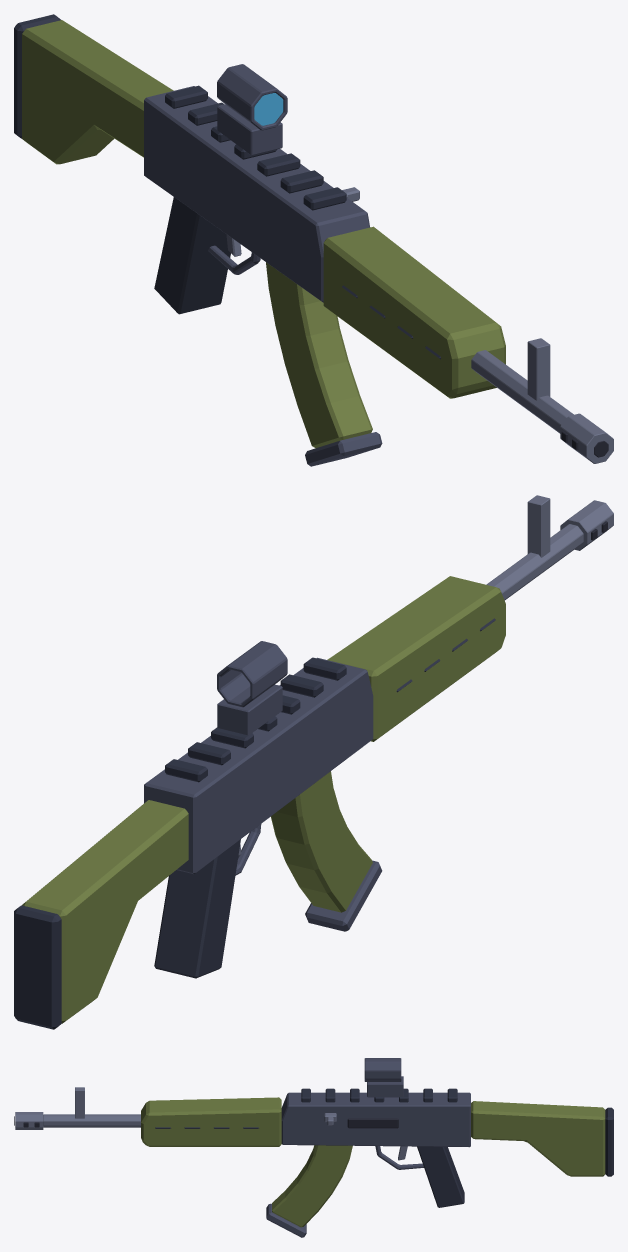
The model's file is myw_assaultrifle.glb.
The picture shows the model from 3 angles, top to bottom: view 1: azimuth 30°, elevation 25°; view 2: azimuth 150°, elevation 25°; view 3: azimuth 270°, elevation 25°; orthographic projection. The views are drawn at different scales.
Parts seen in each view (by area): view 1: Furniture, Body, Mag, Barrel, Sight; view 2: Furniture, Body, Mag, Sight, Barrel; view 3: Furniture, Body, Mag, Barrel, Sight.
Part boxes in pixels (box(x1,y1,x2,y2)): Furniture: box(14, 14, 505, 398); Body: box(144, 85, 370, 314); Mag: box(266, 262, 382, 466); Barrel: box(471, 338, 613, 463); Sight: box(217, 64, 287, 155); Furniture: box(14, 576, 505, 1029); Body: box(144, 657, 373, 978); Mag: box(270, 771, 382, 931); Sight: box(217, 641, 287, 735); Barrel: box(486, 495, 613, 600); Furniture: box(141, 1097, 613, 1176); Body: box(281, 1088, 470, 1207); Mag: box(266, 1145, 352, 1237); Barrel: box(14, 1087, 140, 1129); Sight: box(364, 1058, 403, 1097).
Bounding box in the file's own units: 0.4225 × 1.57 × 4.91.
